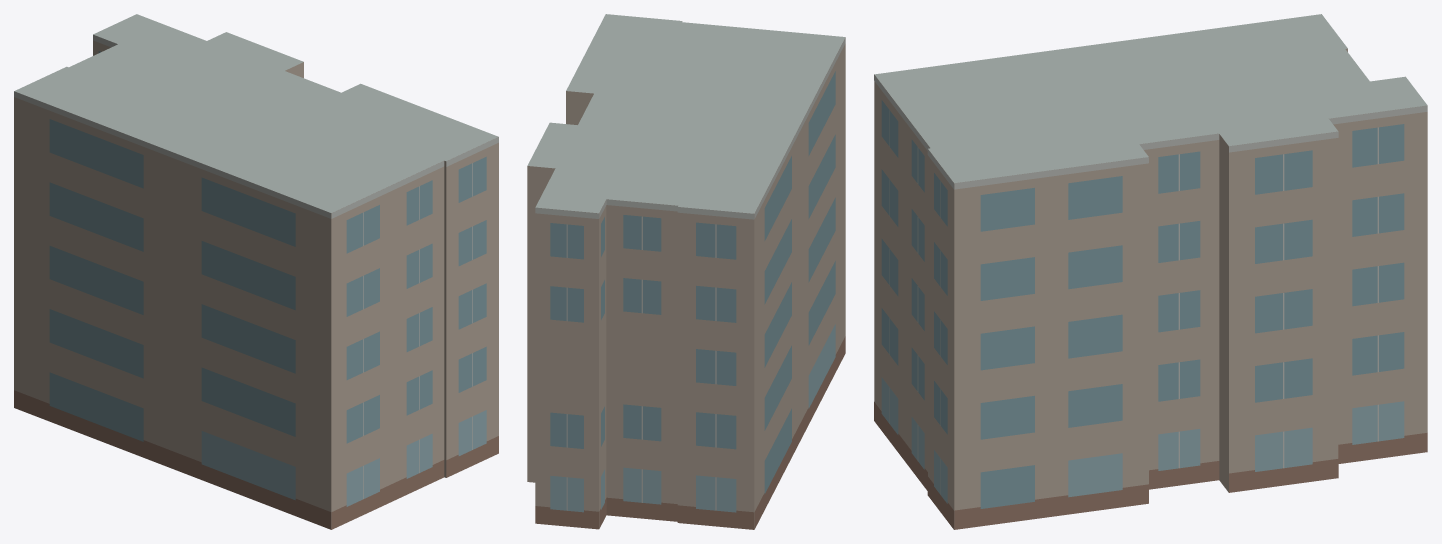
File: survey-upis-32620910.glb
3 renders of one model, left to right at view 1: azimuth 30°, elevation 25°; view 2: azimuth 150°, elevation 25°; view 3: azimuth 270°, elevation 25°, orthographic. The views are drawn at different scales.
Visible parts, largest first — view 1: survey-upis-32620910.tmp; view 2: survey-upis-32620910.tmp; view 3: survey-upis-32620910.tmp.
Part boxes in pixels (left/top/right/bottom): survey-upis-32620910.tmp: left=14, top=14, right=498, bottom=529; survey-upis-32620910.tmp: left=527, top=14, right=845, bottom=529; survey-upis-32620910.tmp: left=874, top=14, right=1427, bottom=529.
Bounding box in the file's own units: 13.94 × 13.3 × 19.25.
